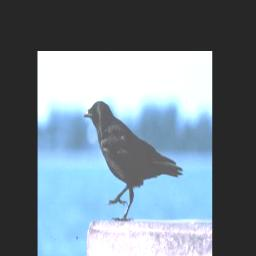Crow: (82, 96, 184, 223)
